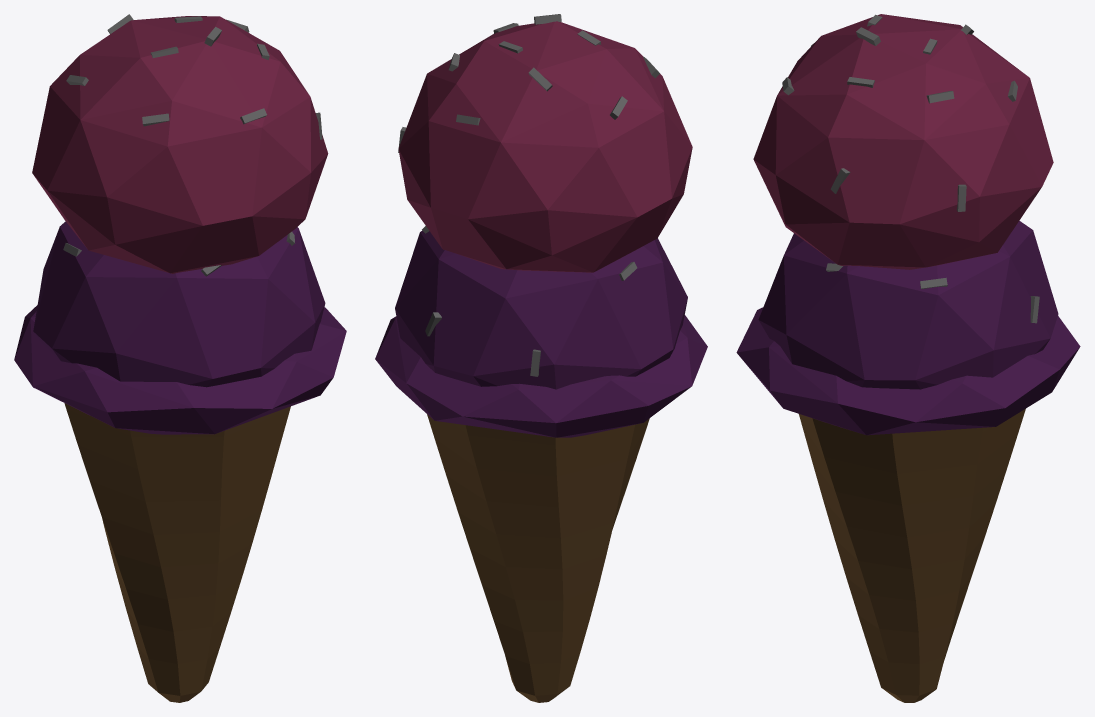
The model's file is IceCream_2.obj.
3 renders of one model, left to right at view 1: azimuth 30°, elevation 25°; view 2: azimuth 150°, elevation 25°; view 3: azimuth 270°, elevation 25°, orthographic.
Visible parts, largest first — view 1: IceCream_2_Cylinder.037; view 2: IceCream_2_Cylinder.037; view 3: IceCream_2_Cylinder.037.
Part boxes in pixels (x1,y1,x2,y2): IceCream_2_Cylinder.037: [14, 14, 346, 702]; IceCream_2_Cylinder.037: [375, 14, 707, 702]; IceCream_2_Cylinder.037: [736, 14, 1080, 702].
Size of the model in its own units: 0.7296 by 1.57 by 0.7296.
